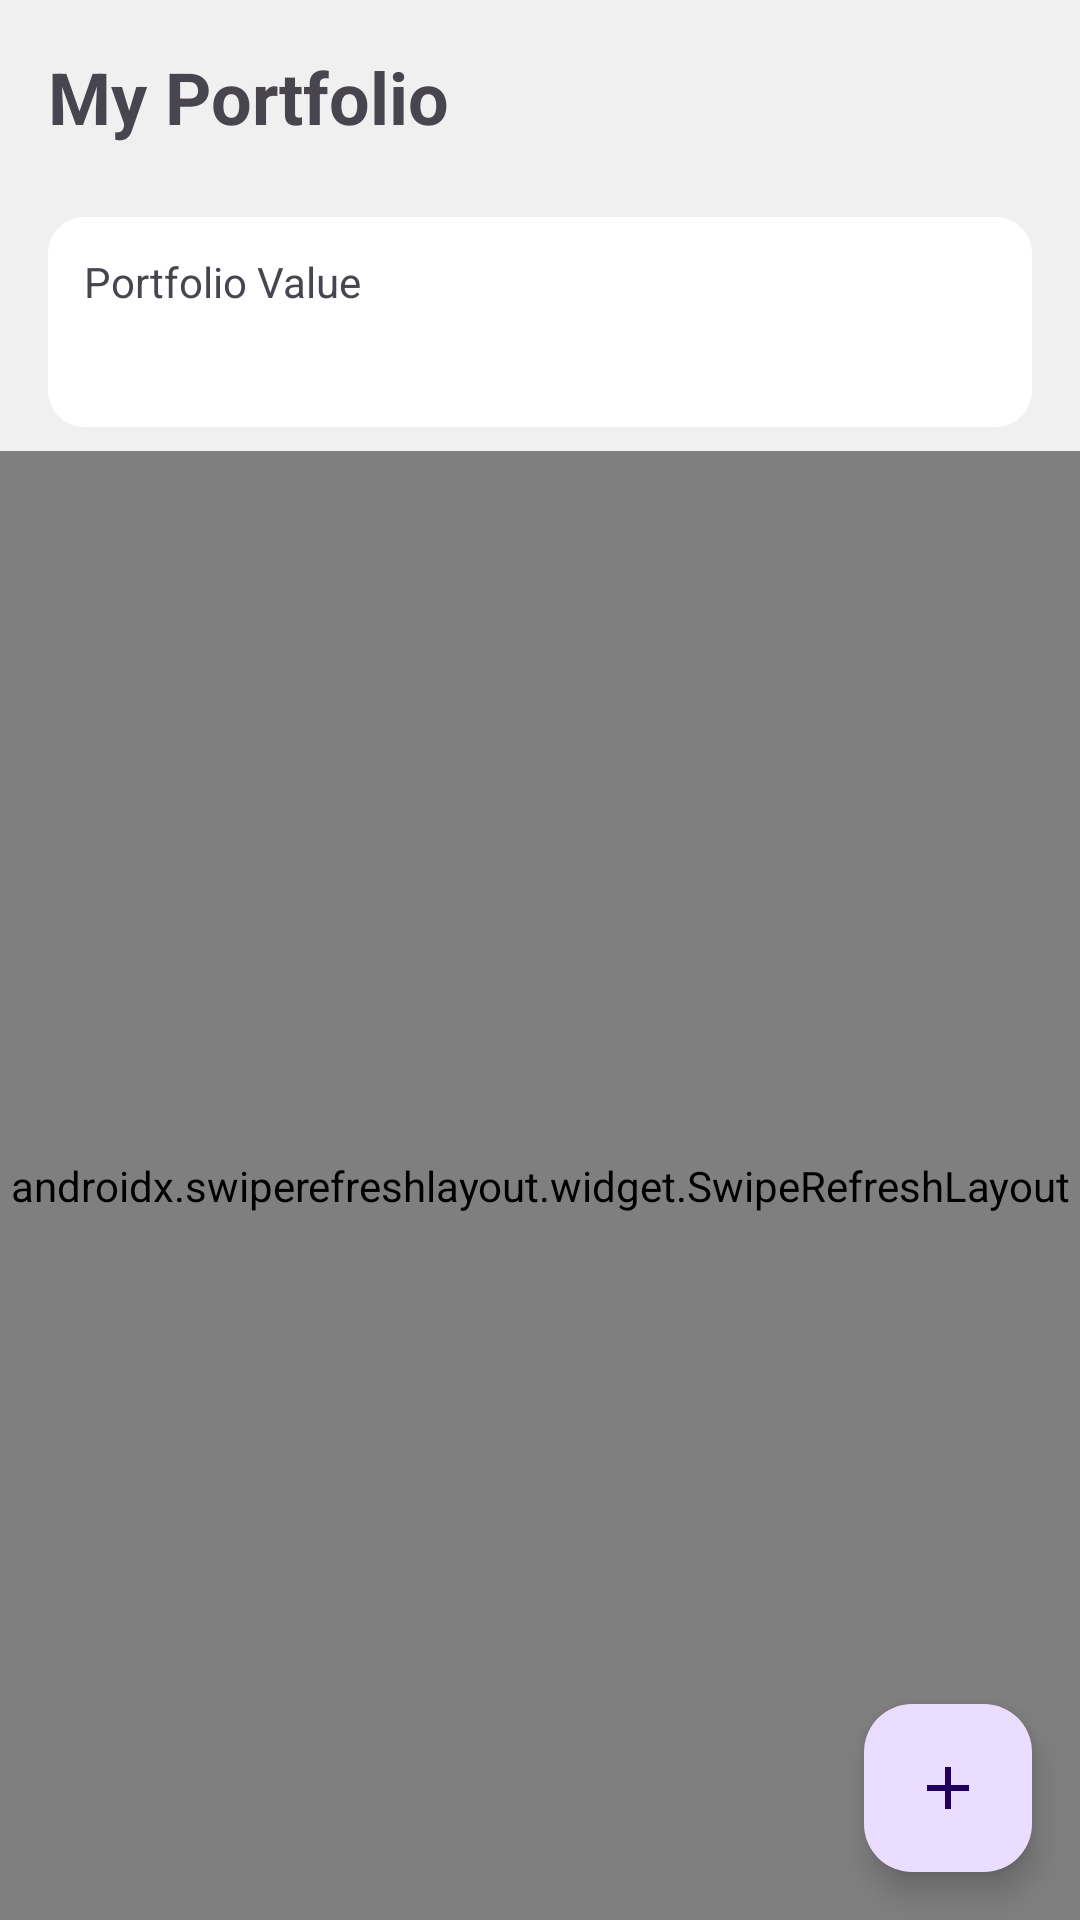

Named icons in this screenshot (1080 × 1920) and their bounding boxes, rect(x1, y1, x2, y2):
Add new stock to portfolio: rect(864, 1704, 1032, 1872)
